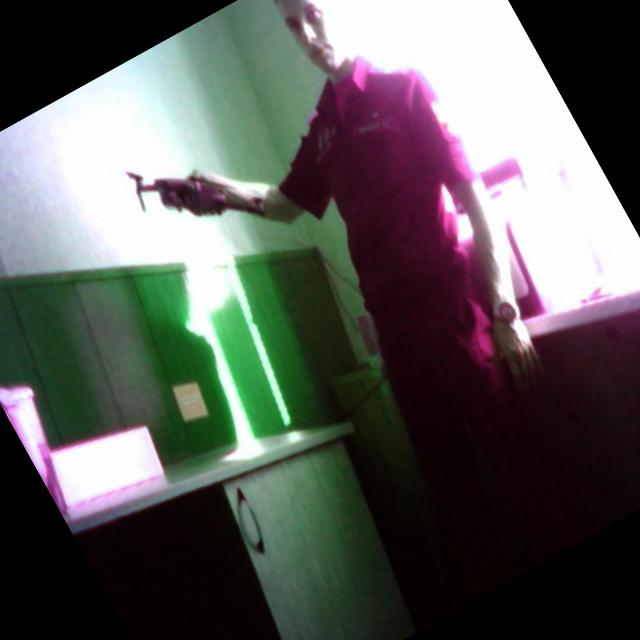drone: (111, 110, 278, 279)
